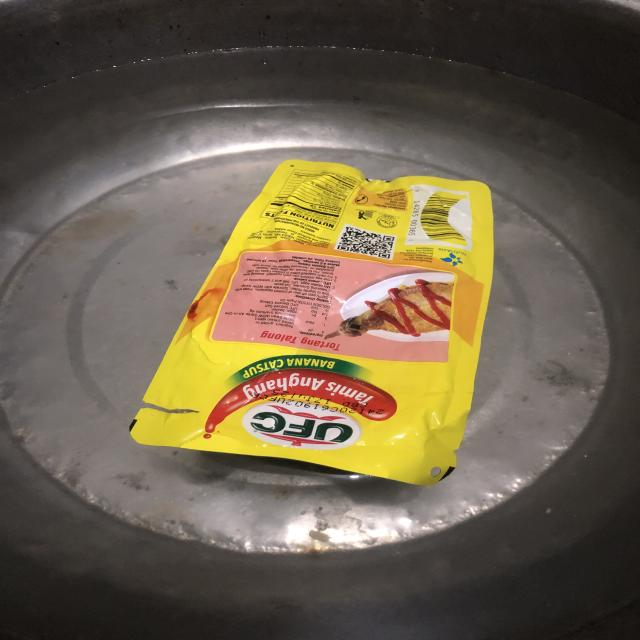Plastic Pouch: (149, 150, 492, 488)
